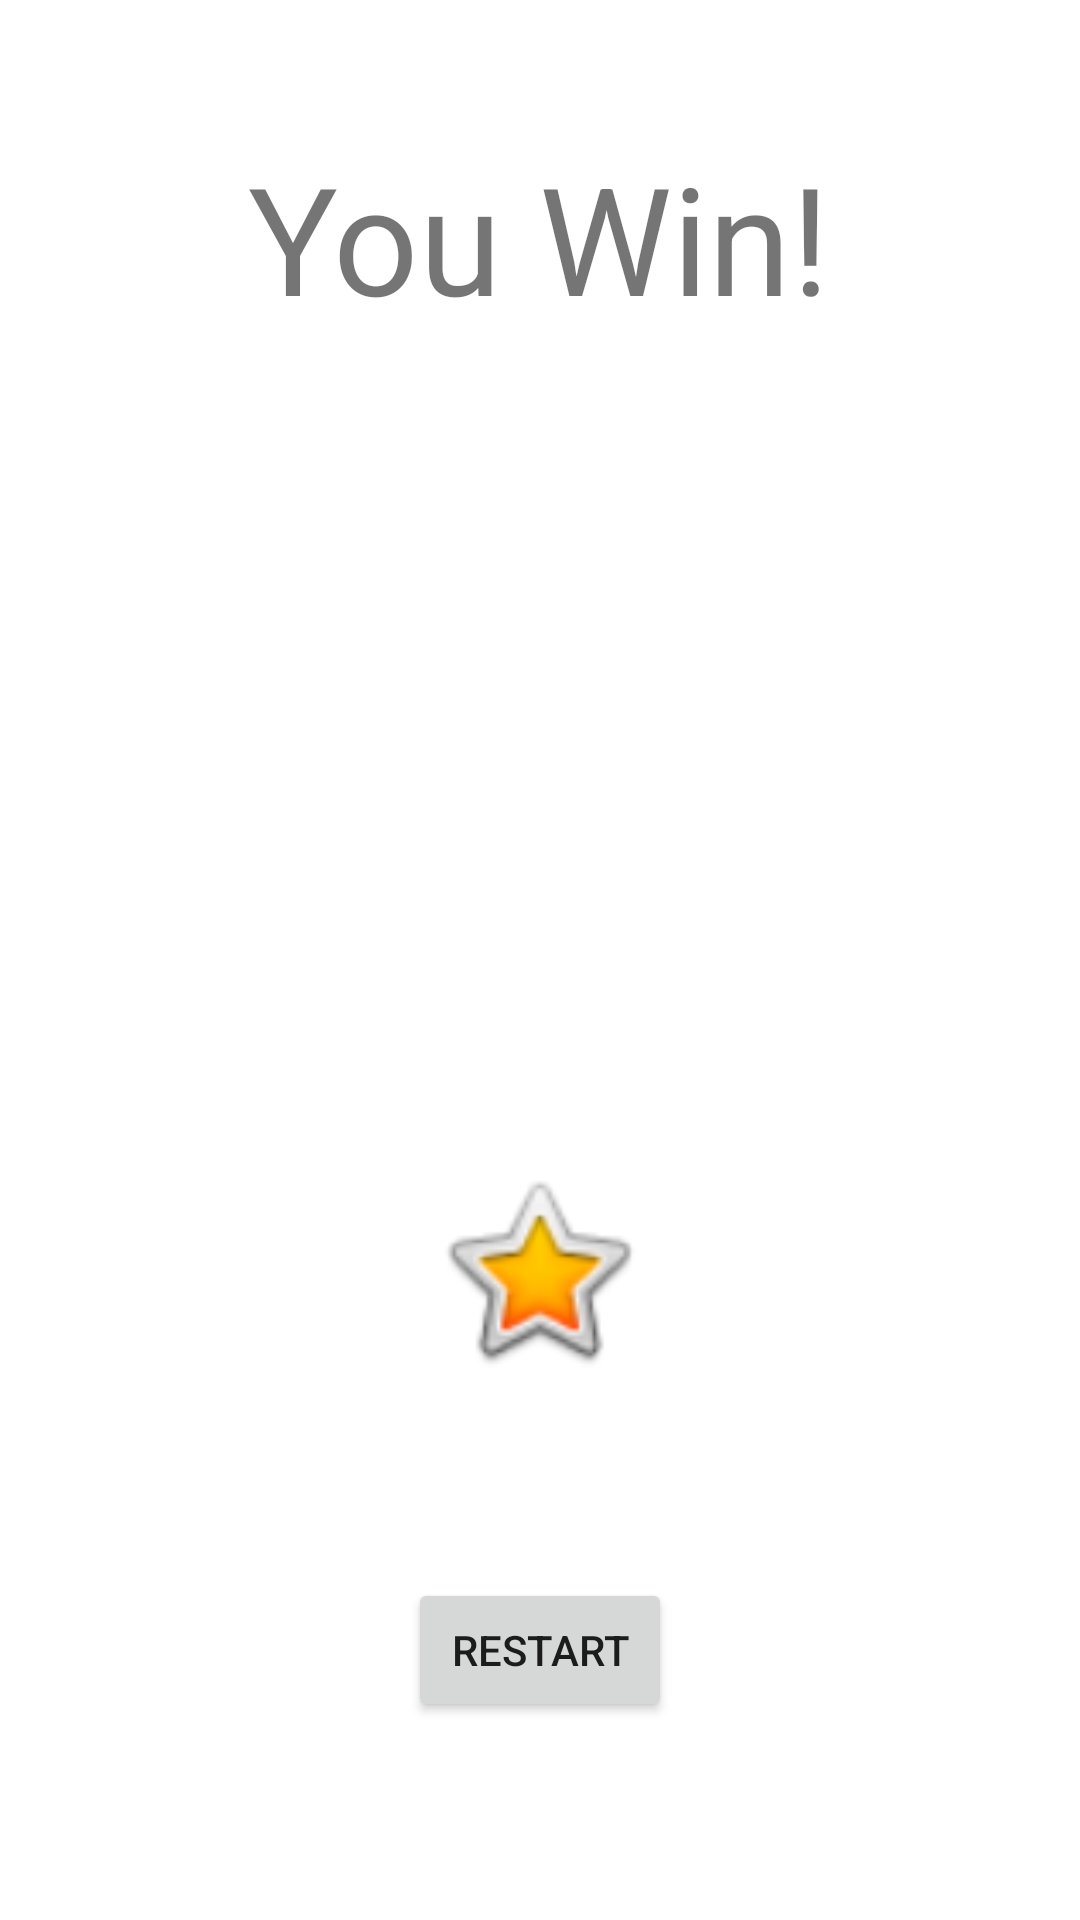

Locate icon controls on the screen. Image size 1080px×1920px, boxes as rect(x1, y1, x2, y2).
star on: rect(448, 1183, 631, 1361)
